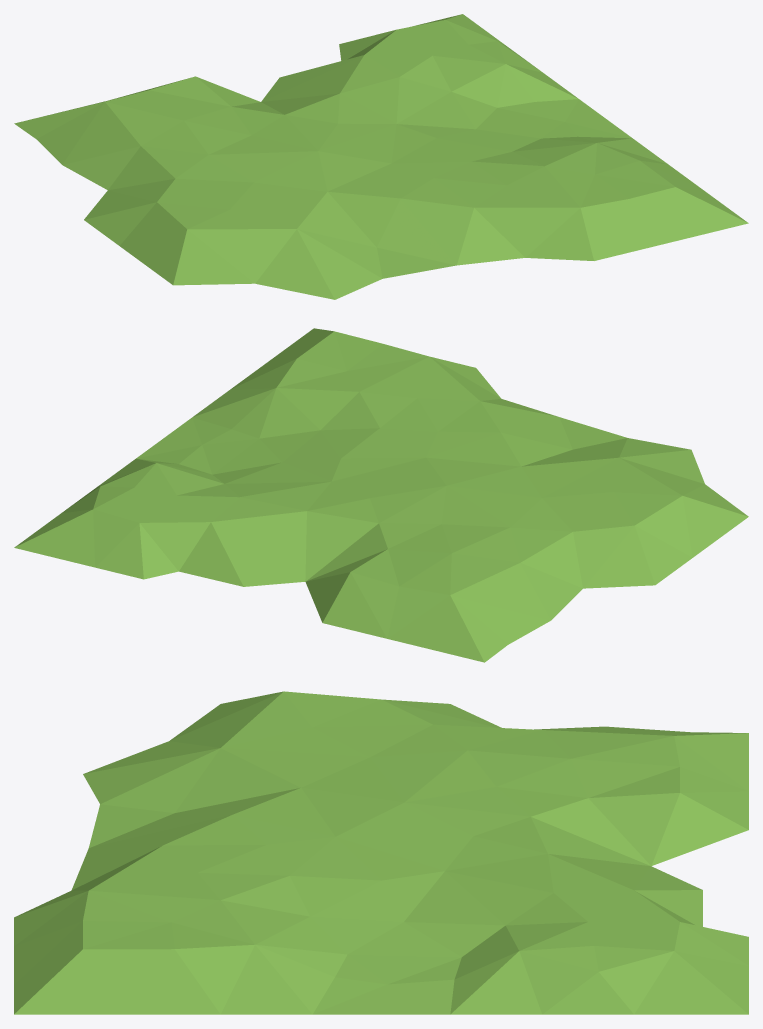
Rendered from MT_Mountain_S_c_21_LOD.fbx.
3 renders of one model, top to bottom at view 1: azimuth 30°, elevation 25°; view 2: azimuth 150°, elevation 25°; view 3: azimuth 270°, elevation 25°, orthographic. The views are drawn at different scales.
Parts seen in each view (by area): view 1: MT_Mountain_S_c_21_LOD0; view 2: MT_Mountain_S_c_21_LOD0; view 3: MT_Mountain_S_c_21_LOD0.
Part boxes in pixels (x1,y1,x2,y2): MT_Mountain_S_c_21_LOD0: (14, 14, 748, 299); MT_Mountain_S_c_21_LOD0: (14, 328, 748, 662); MT_Mountain_S_c_21_LOD0: (14, 691, 748, 1014).
Size of what is drawn, in the model's own units: 2500 by 148 by 2500.
